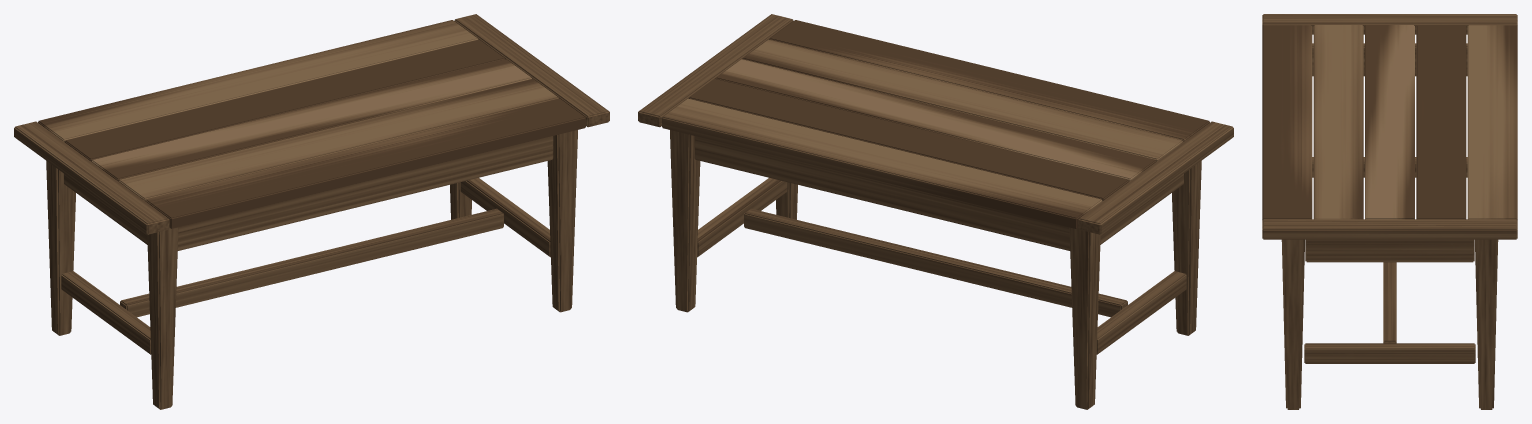
The model's file is desk_wood.glb.
3 renders of one model, left to right at view 1: azimuth 30°, elevation 25°; view 2: azimuth 150°, elevation 25°; view 3: azimuth 270°, elevation 25°, orthographic. The views are drawn at different scales.
Visible parts, largest first — view 1: Desk Wood; view 2: Desk Wood; view 3: Desk Wood.
Part boxes in pixels (box(x1,y1,x2,y2)): Desk Wood: box(14, 14, 609, 409); Desk Wood: box(638, 14, 1233, 409); Desk Wood: box(1262, 14, 1517, 409).
Size of the model in its own units: 0.9 by 0.375 by 0.45.
Materials: 1 (1 with a texture image).
